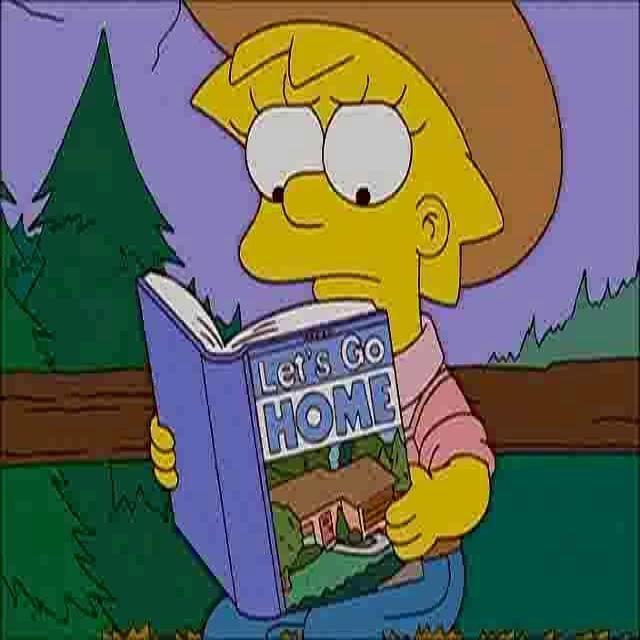Lisa Simpson: (190, 22, 506, 351)
